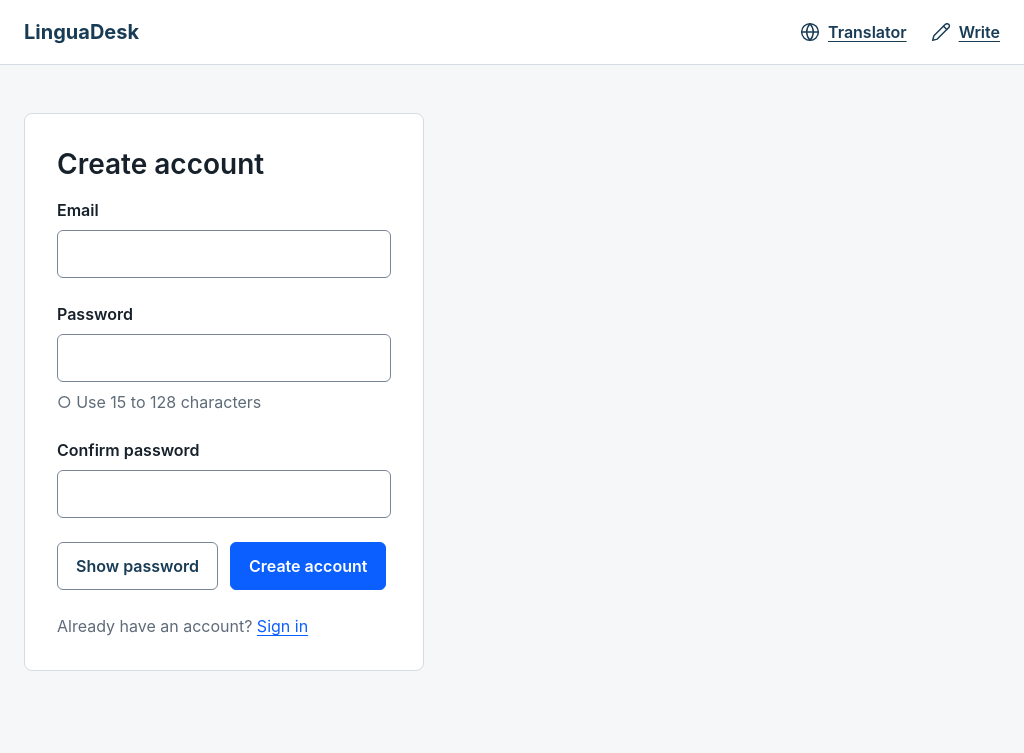
it: registration local validation › sends no request for missing password with linked errors and first-invalid focus
This screenshot has width=1024, height=753.
Type "new-visitor@example.test" into the field labelled "Email" at point(224, 254), box x1=57 y1=230 x2=391 y2=278
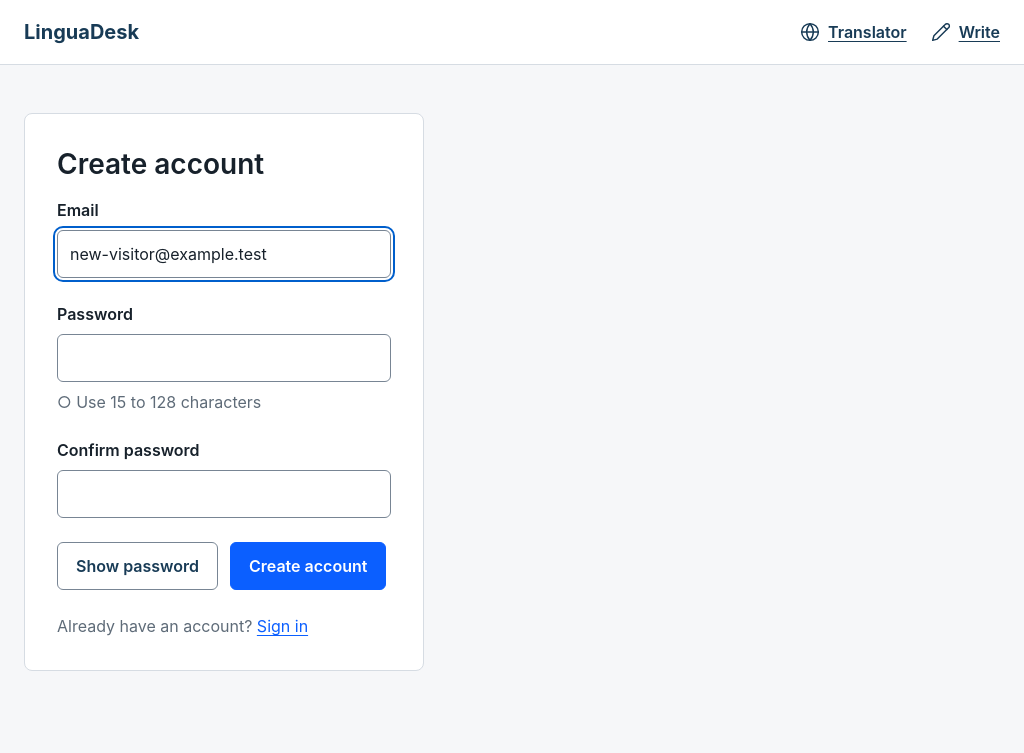
Click the button "Create account" at point(308, 566), box x1=230 y1=542 x2=386 y2=590
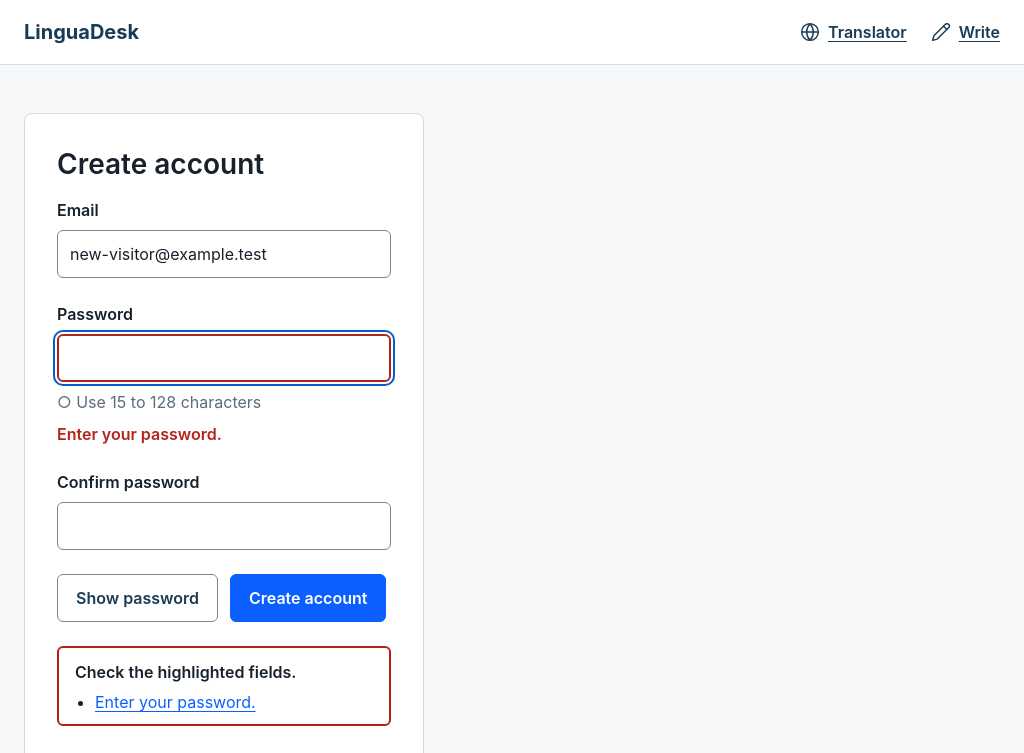
Check: the text "Check the highlighted fields." is shown, box x1=75 y1=662 x2=296 y2=682
Check: the text "Enter your password." is shown, box x1=57 y1=424 x2=222 y2=444
